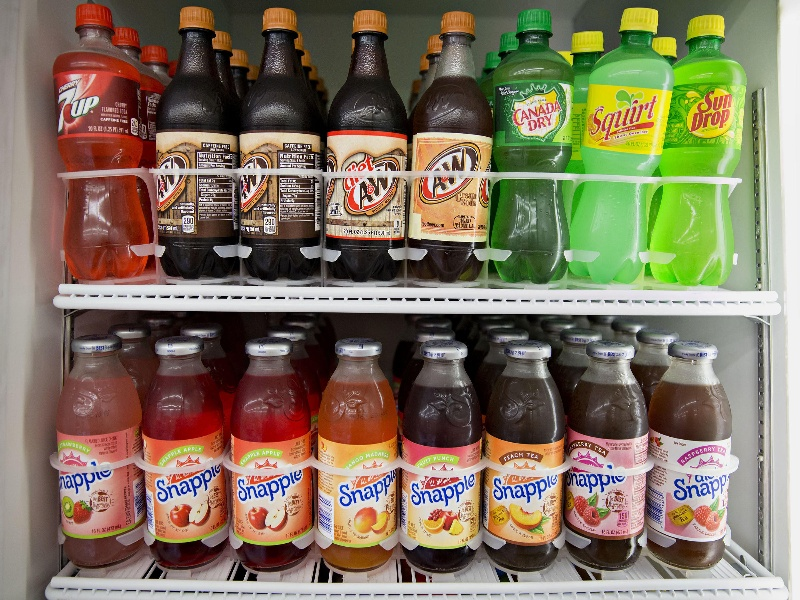Plastic bottle: (38, 17, 159, 282), (647, 23, 750, 280), (486, 5, 574, 287), (574, 22, 659, 299)
